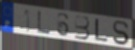1: (23, 9, 30, 33)
6: (56, 12, 70, 39)
B: (74, 14, 91, 41)
L: (36, 10, 51, 36), (94, 18, 109, 43)
S: (112, 20, 130, 46)
